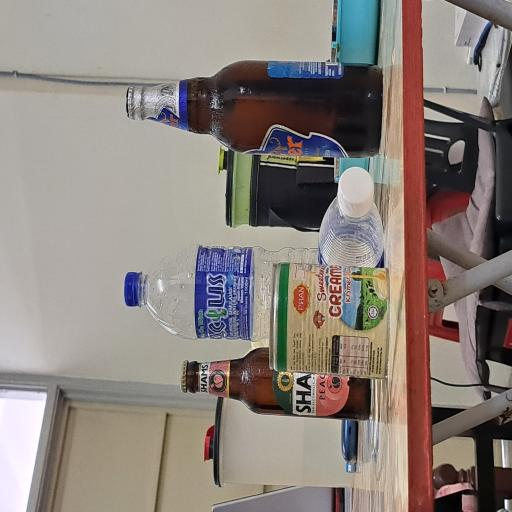can: (103, 354, 184, 512)
glass bottle: (270, 169, 338, 509), (72, 238, 124, 493)
plastic bottle: (128, 164, 198, 484), (183, 420, 259, 512)
plastic bottle cap: (220, 446, 262, 500), (150, 166, 183, 195)
